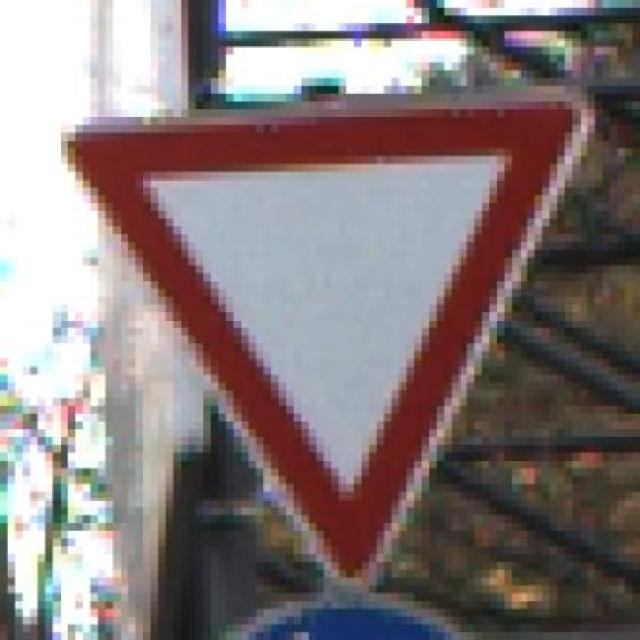Give Way: (30, 78, 610, 593)
